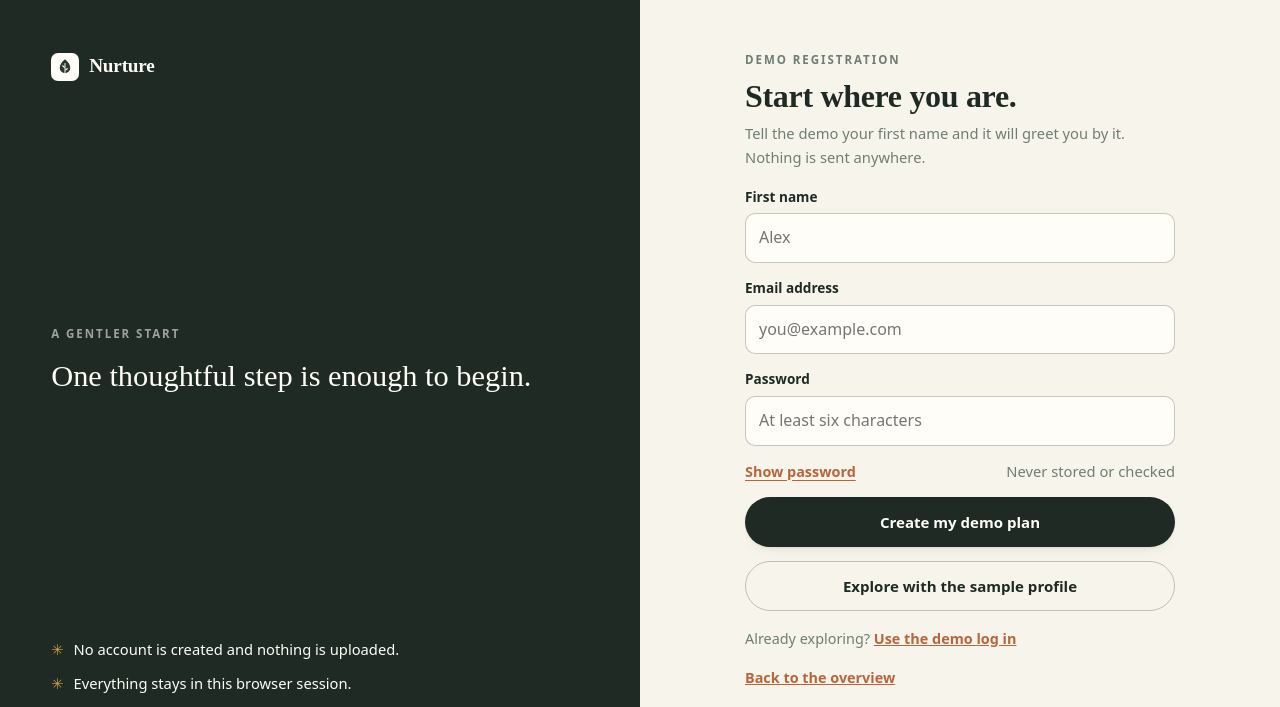
shared demo state › persists the demo name into the greeting
Type "Priya" into the field labelled "First name" at (960, 238), box [745,213,1175,263]
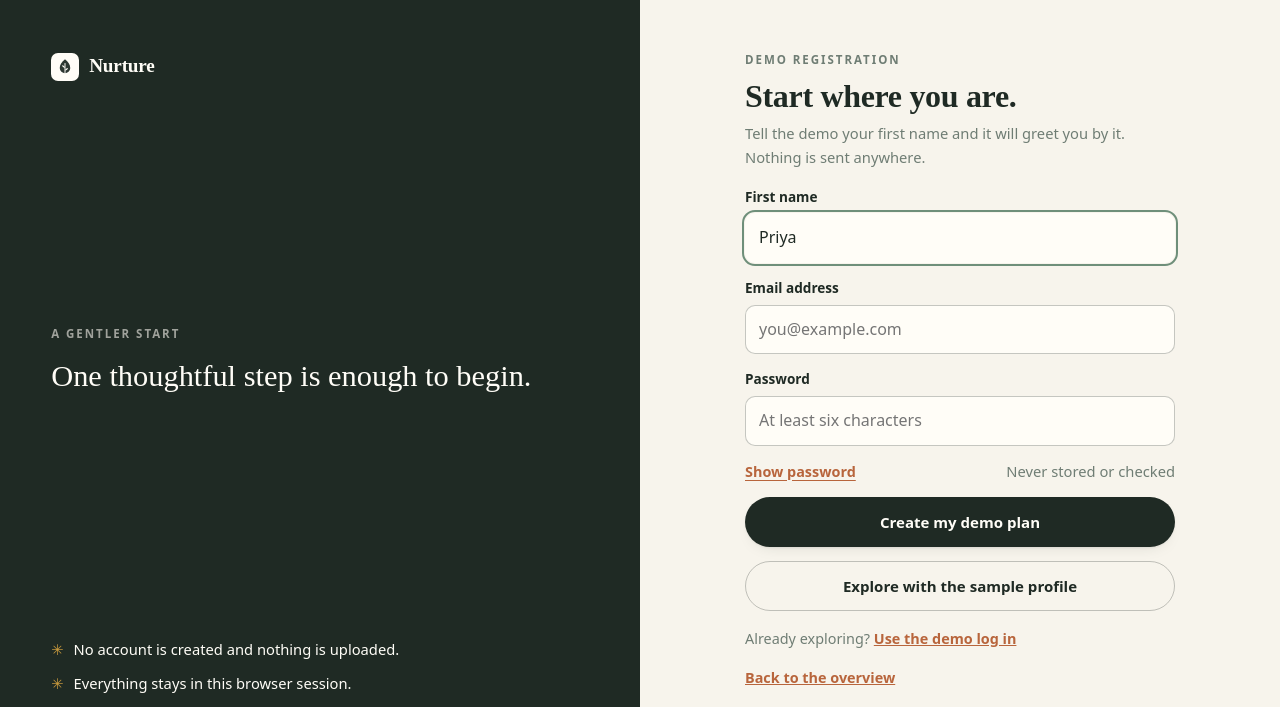
Type "priya@example.com" into the field labelled "Email address" at (960, 329), box [745,305,1175,354]
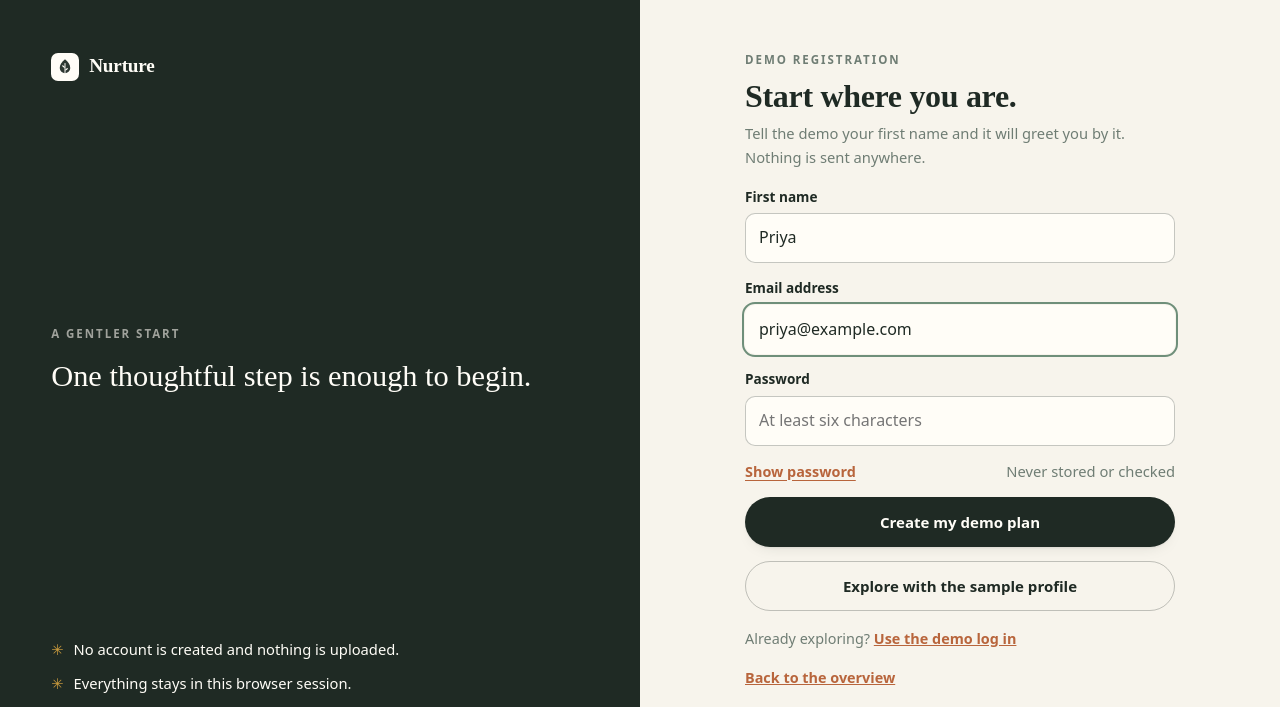
Type "secret123" into the password field labelled "Password" at (960, 421), box [745,396,1175,446]
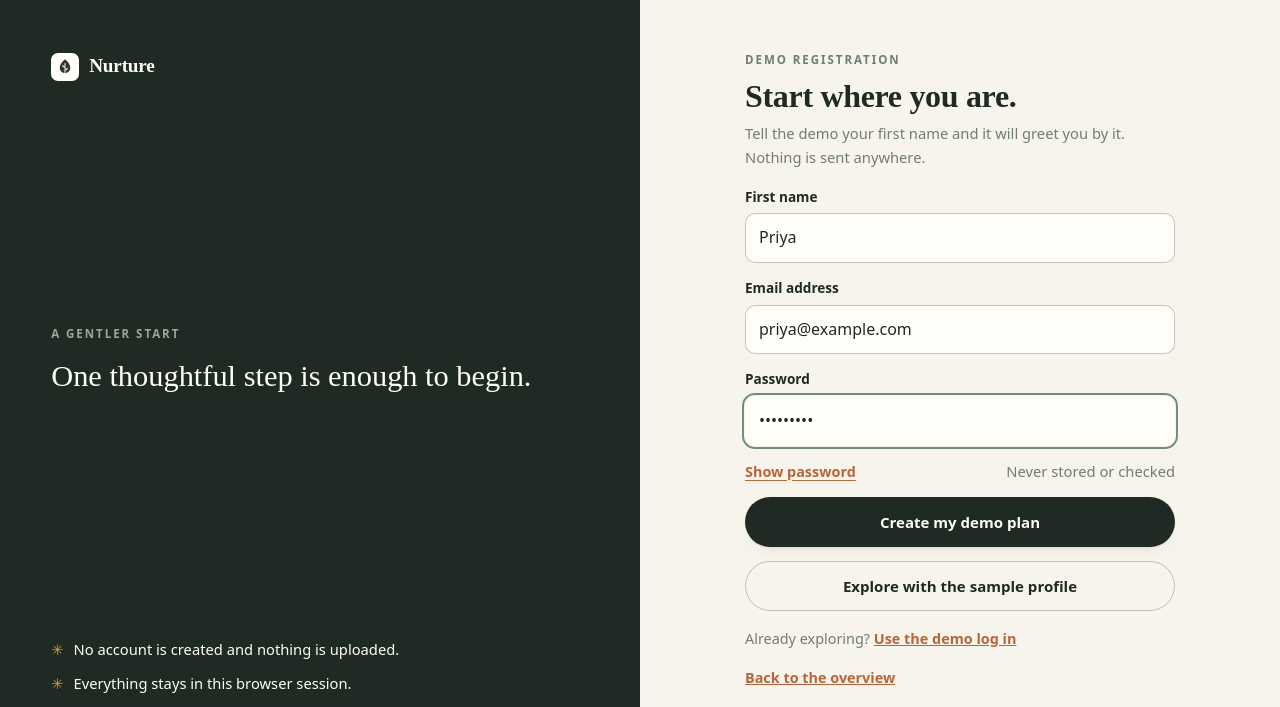
Click the button "Create my demo plan" at (960, 522), box [745,497,1175,547]
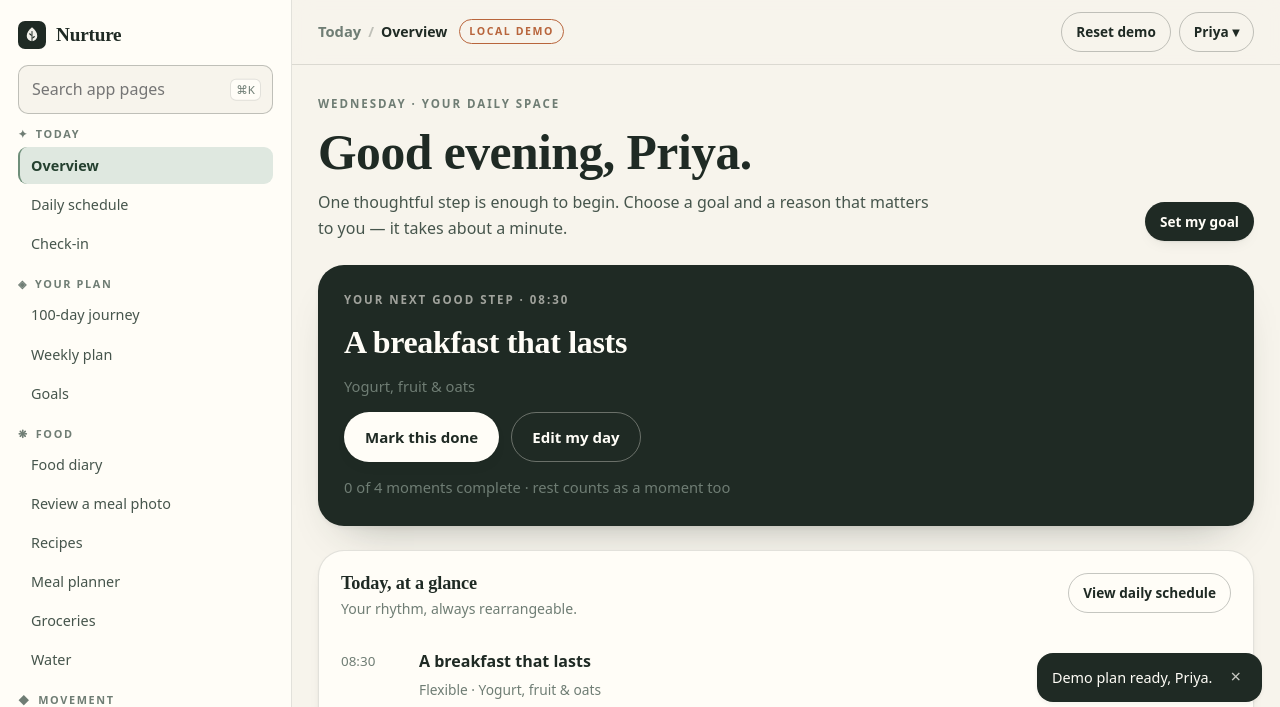
Expected: the heading "Good evening, Priya." is shown, [318,125,752,180]
